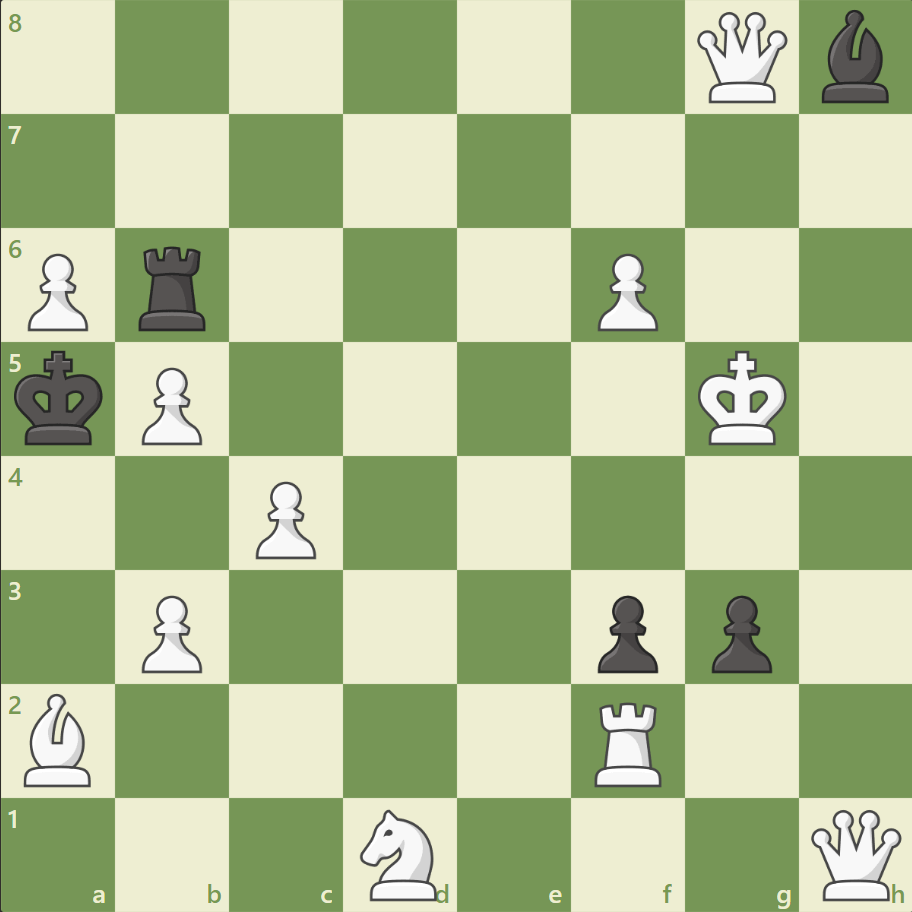B: (17, 687, 101, 790)
K: (692, 344, 792, 452)
N: (351, 802, 449, 904)
P: (20, 246, 95, 337), (133, 359, 208, 450), (247, 473, 322, 564), (133, 586, 208, 677), (588, 246, 662, 337)
Q: (691, 9, 790, 108), (805, 804, 904, 903)
R: (587, 693, 670, 790)
b: (812, 6, 896, 109)
k: (11, 344, 111, 452)
p: (701, 586, 776, 677), (588, 586, 662, 677)
r: (133, 239, 215, 336)
